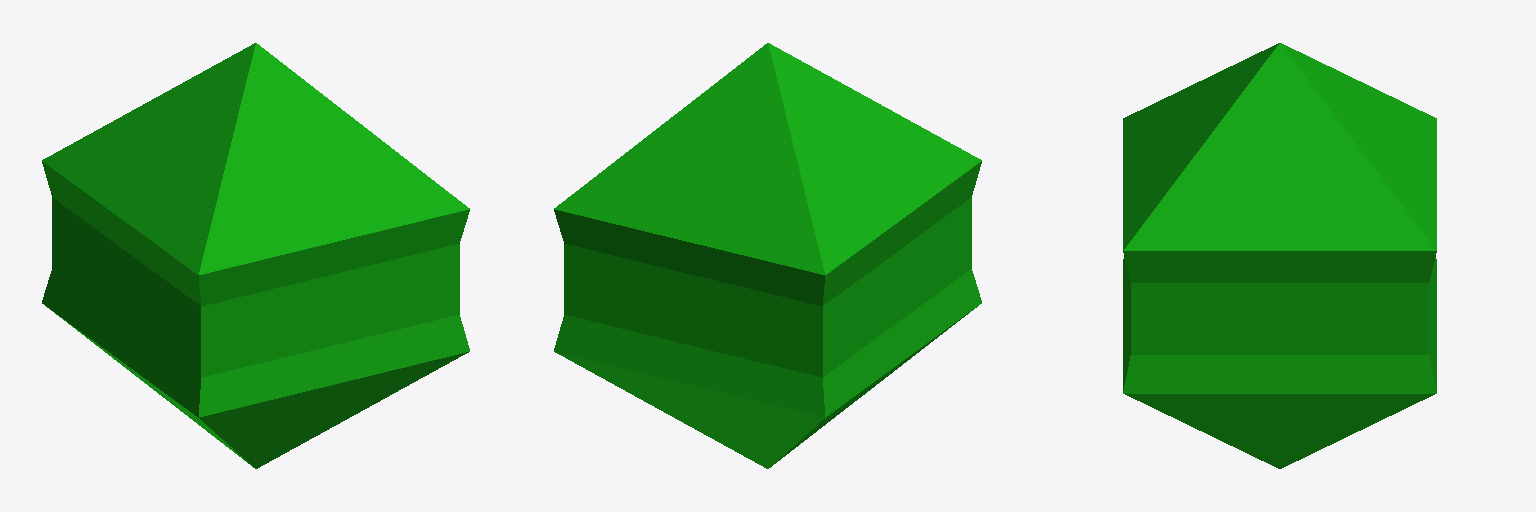
File: emerald.obj
3 renders of one model, left to right at view 1: azimuth 30°, elevation 25°; view 2: azimuth 150°, elevation 25°; view 3: azimuth 270°, elevation 25°, orthographic.
Visible parts, largest first — view 1: Box001; view 2: Box001; view 3: Box001.
Part boxes in pixels (x1,y1,x2,y2): Box001: (42,43,469,468); Box001: (554,43,981,468); Box001: (1123,43,1436,468).
Size of the model in its own units: 1 by 1.5 by 1.